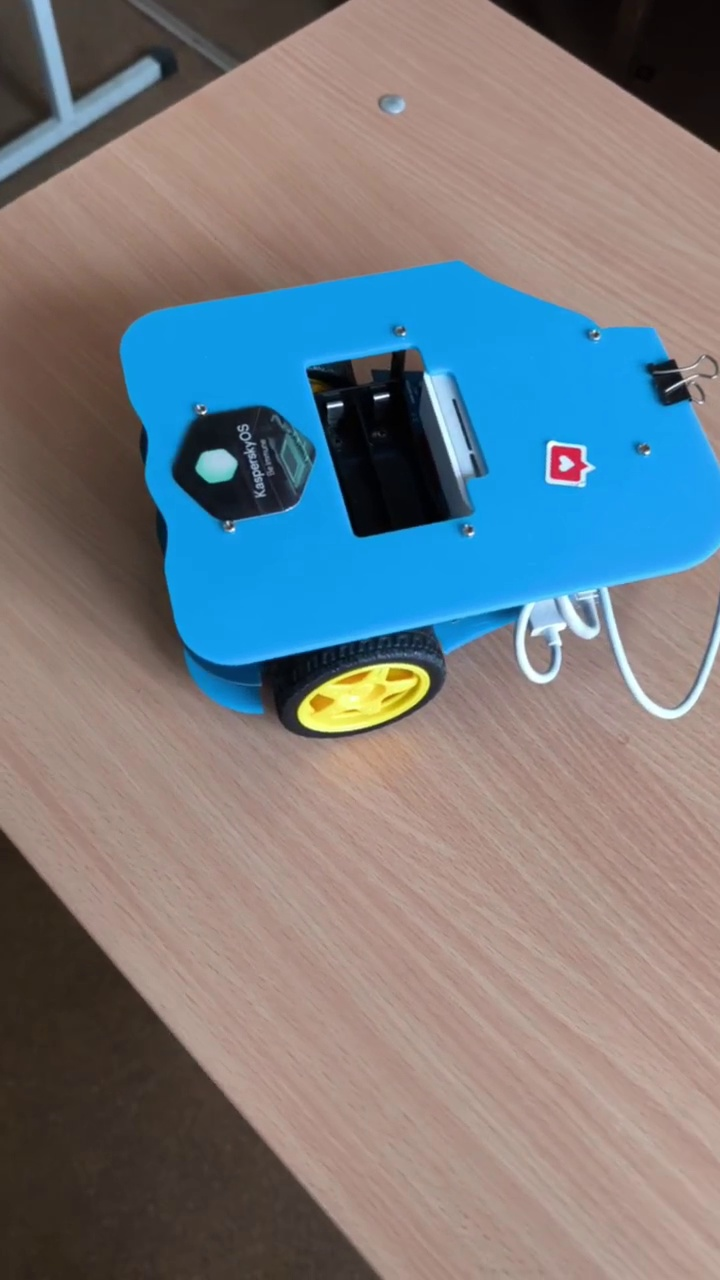robot: (117, 259, 720, 741)
